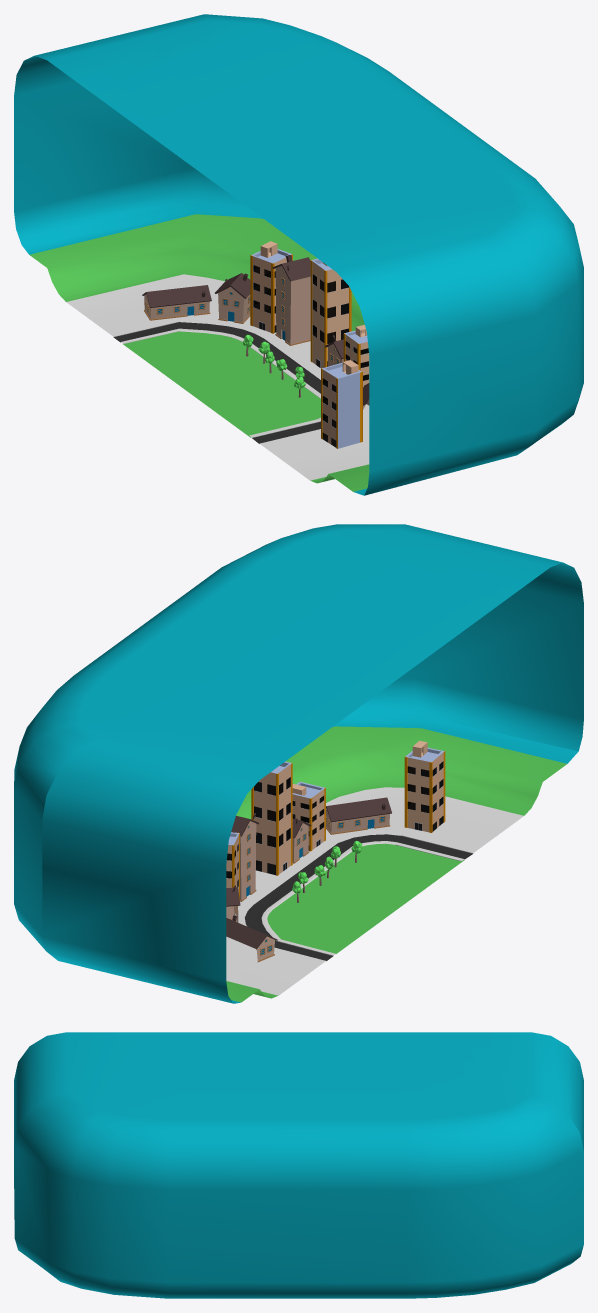
File: Ext_Fini_V2.fbx
3 views of the same model, one above another, from view 1: azimuth 30°, elevation 25°; view 2: azimuth 150°, elevation 25°; view 3: azimuth 270°, elevation 25° (orthographic). The views are drawn at different scales.
Visible parts, largest first — view 1: Decors, Herbe3, Immeube8, Immeube3, Immeube2, Immeube1, Immeube7, Immeube, Immeube5; view 2: Decors, Herbe3, Immeube3, Immeube8, Immeube6, Immeube5, Immeube2, Immeube7, Immeube1, Immeube4; view 3: Decors.
Part boxes in pixels (bbox=[...]): Decors: bbox=[14, 14, 583, 495]; Herbe3: bbox=[123, 331, 320, 437]; Immeube8: bbox=[321, 360, 362, 448]; Immeube3: bbox=[310, 258, 351, 368]; Immeube2: bbox=[272, 255, 310, 345]; Immeube1: bbox=[250, 241, 292, 333]; Immeube7: bbox=[142, 285, 211, 320]; Immeube: bbox=[215, 273, 250, 323]; Immeube5: bbox=[343, 325, 369, 387]; Decors: bbox=[14, 524, 583, 1003]; Herbe3: bbox=[267, 843, 464, 953]; Immeube3: bbox=[251, 761, 292, 875]; Immeube8: bbox=[404, 740, 445, 832]; Immeube6: bbox=[326, 797, 391, 834]; Immeube5: bbox=[292, 781, 325, 851]; Immeube2: bbox=[231, 813, 258, 901]; Immeube7: bbox=[226, 915, 277, 962]; Immeube1: bbox=[226, 832, 239, 900]; Immeube4: bbox=[292, 818, 311, 863]; Decors: bbox=[14, 1032, 583, 1298].
Bounding box in the file's own units: 6746 × 5259 × 14826.
